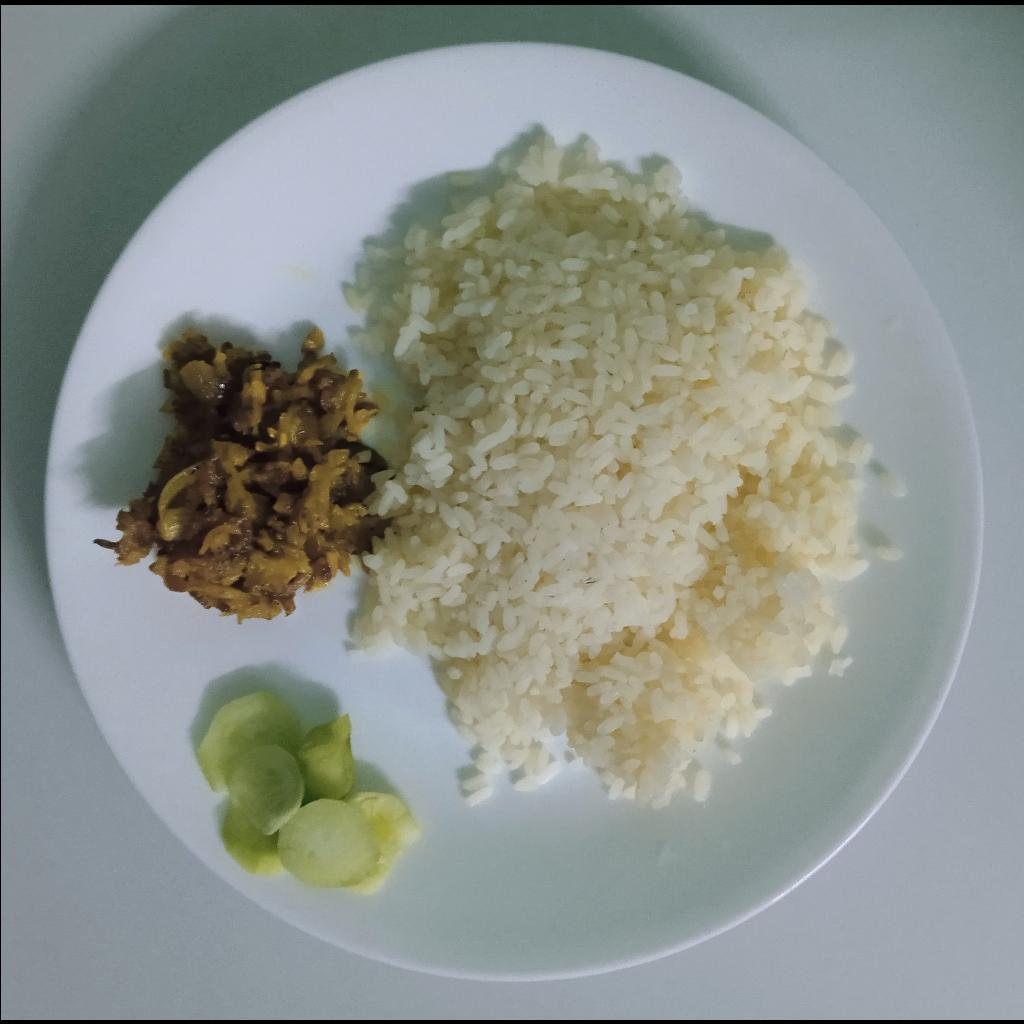cucumber: (194, 690, 420, 892)
dundol: (98, 335, 380, 618)
rice: (346, 128, 882, 809)
